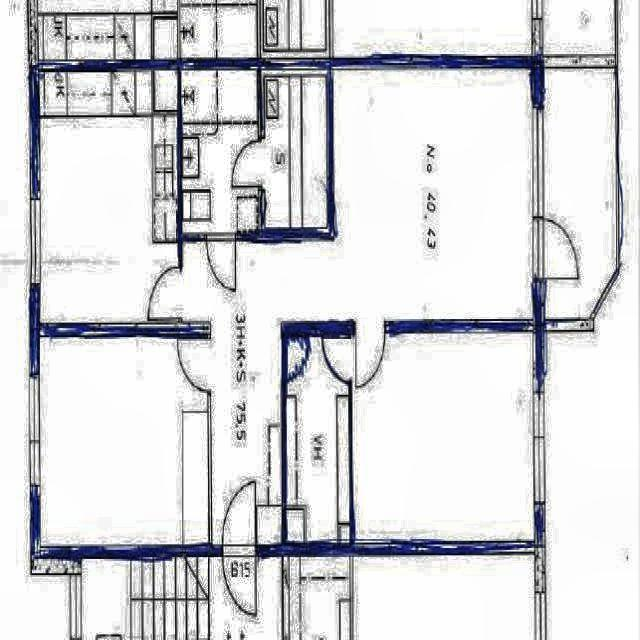room: (352, 336, 534, 542), (39, 335, 209, 546), (39, 70, 178, 322), (287, 339, 350, 542), (181, 71, 258, 231), (264, 76, 327, 227)
